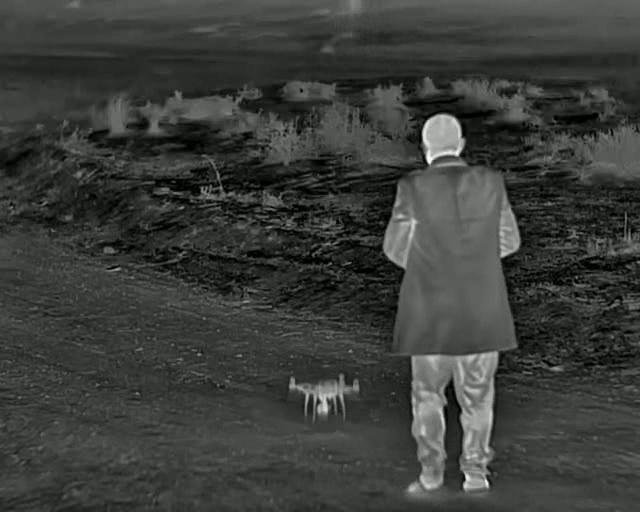DJI-Phantom: (288, 378, 363, 424)
